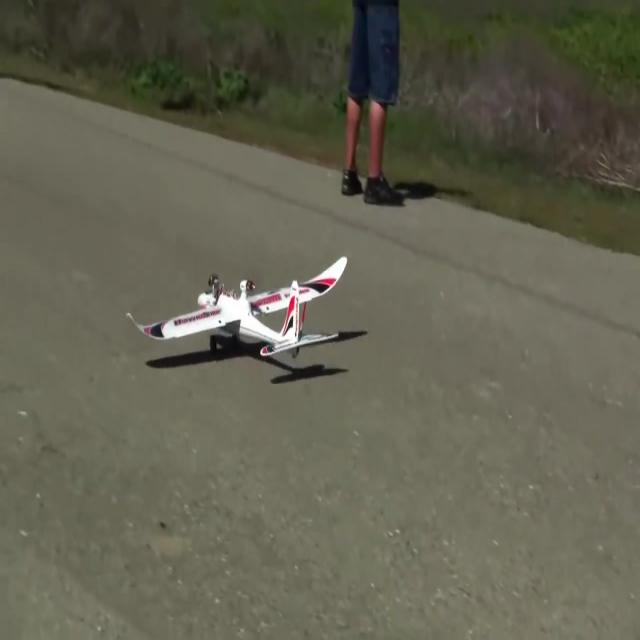iha: (125, 288, 349, 329)
